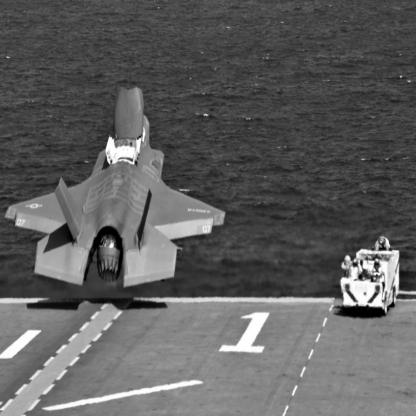F35: (6, 88, 227, 289)
